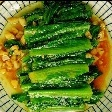youmaicai: (9, 0, 103, 112)
